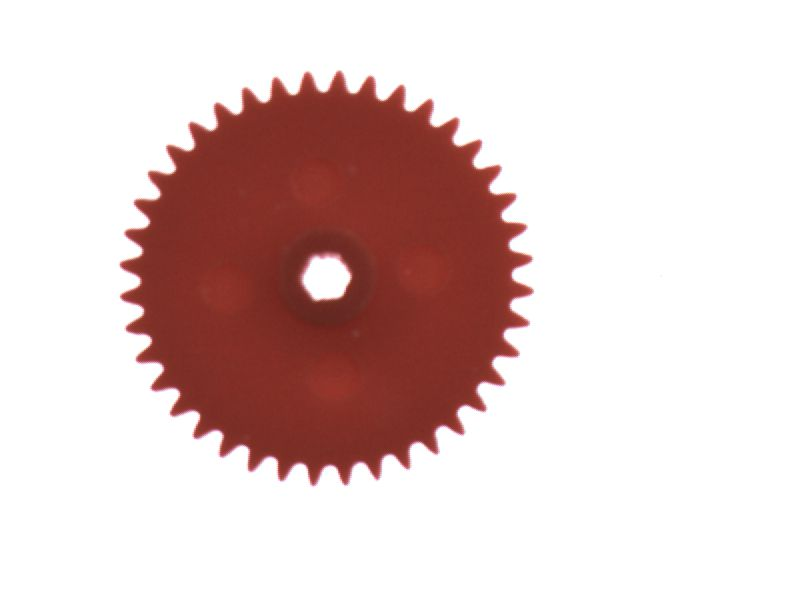good_product: (108, 63, 543, 494)
